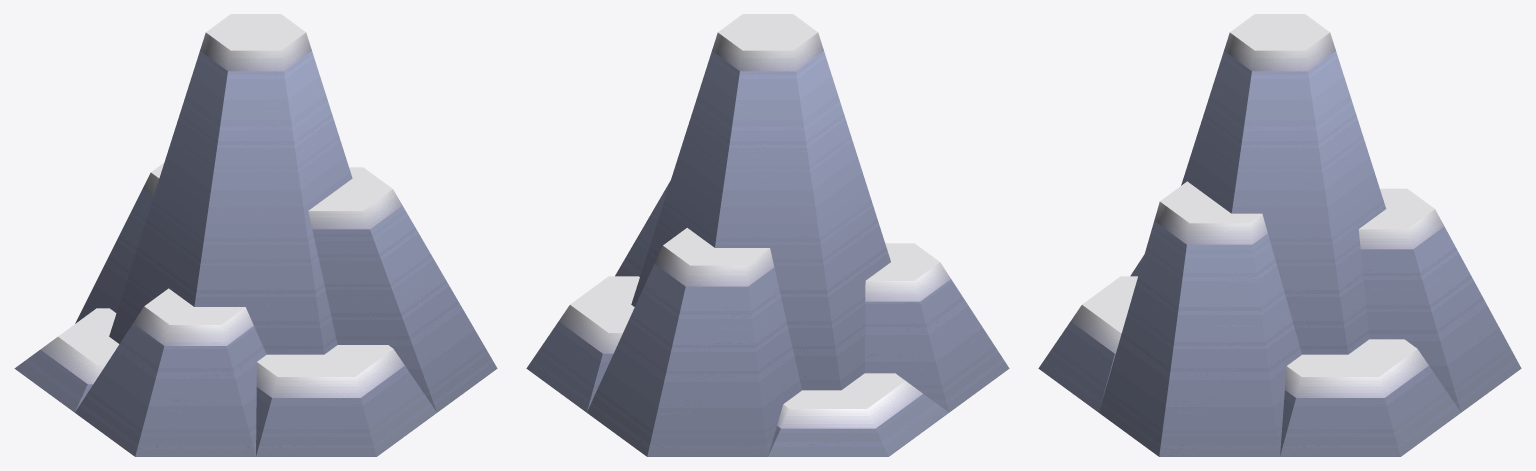
Rendered from mountain_a.glb.
3 views of the same model, side by side, from view 1: azimuth 30°, elevation 25°; view 2: azimuth 150°, elevation 25°; view 3: azimuth 270°, elevation 25° (orthographic).
Visible parts, largest first — view 1: stone-mountain; view 2: stone-mountain; view 3: stone-mountain.
Part boxes in pixels (box(x1,y1,x2,y2)): stone-mountain: box(14, 14, 497, 456); stone-mountain: box(526, 14, 1009, 456); stone-mountain: box(1038, 14, 1521, 456).
Size of the model in its own units: 1 by 0.8864 by 1.15.
1 material, 1 textured.
